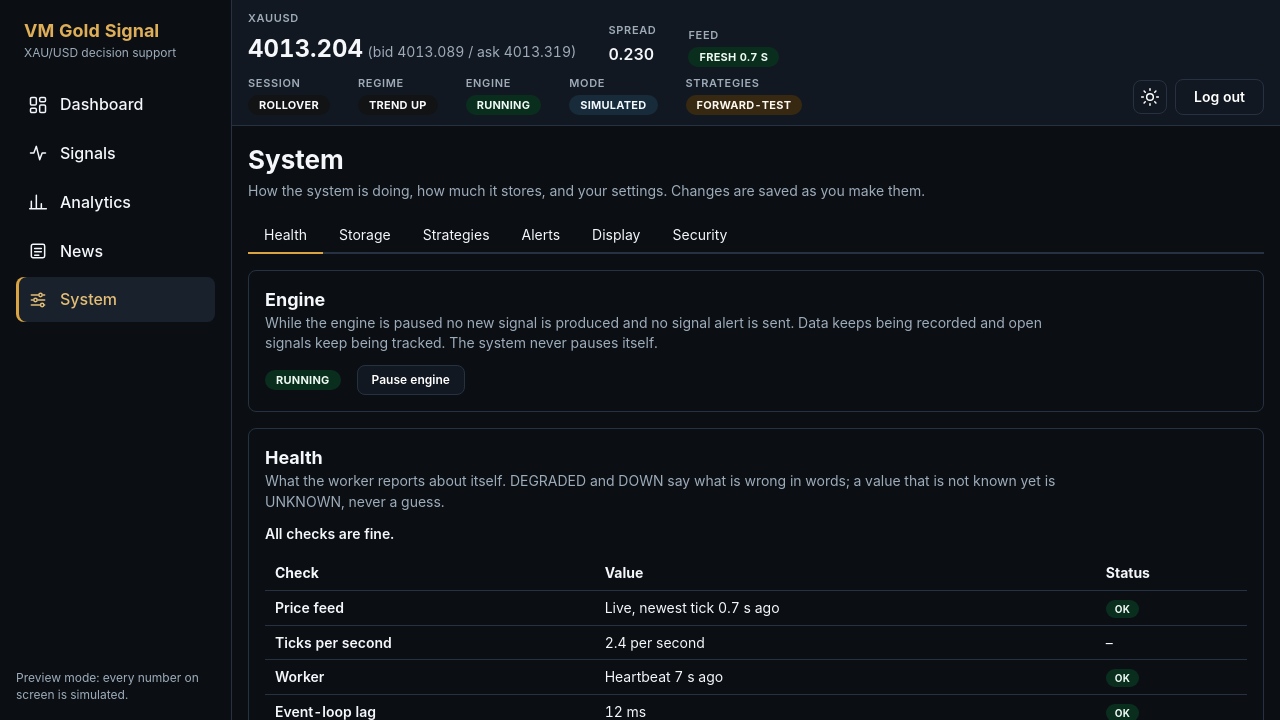
Test case: the health tab › the engine card › asks first, pauses for the time that was chosen, and resumes
Check: the tab "Health" is shown, box [248,218,323,254]
Check: the element with test id "health-engine-status" reads "RUNNING", box [276,373,330,387]
Click the button with test id "health-pause" at x=411, y=380, box [356,365,465,395]
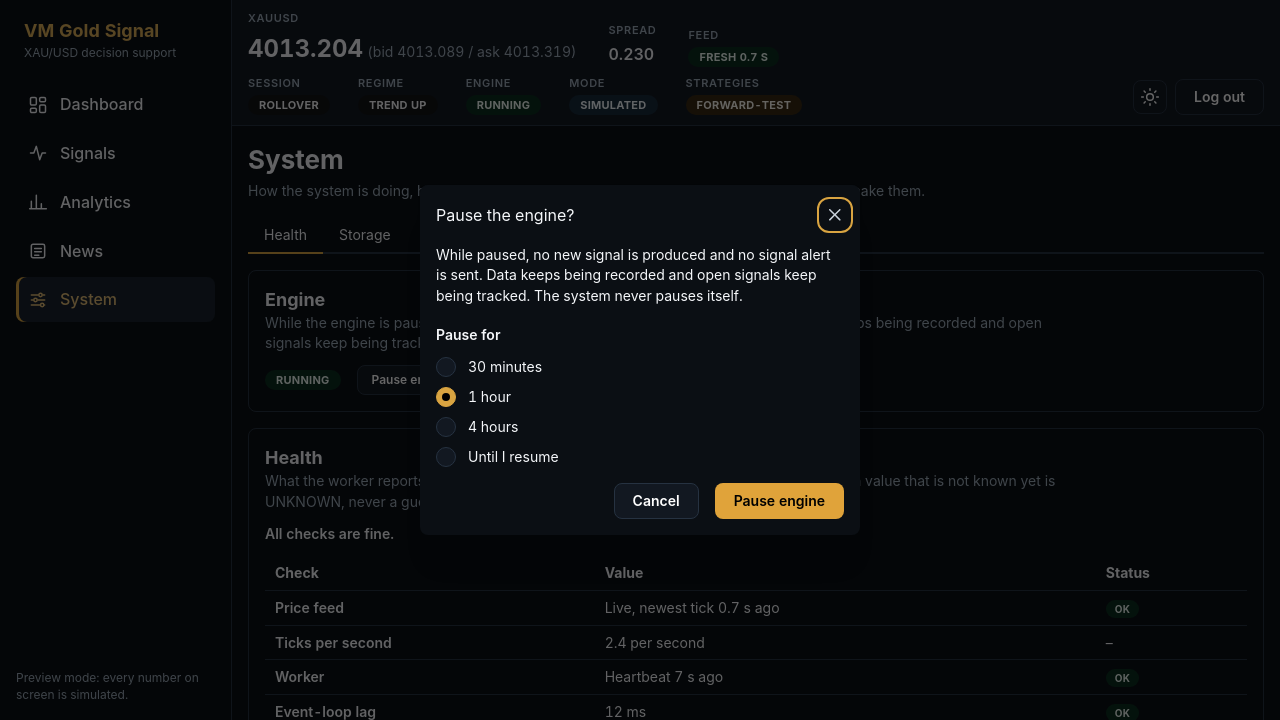
Click the radio button labelled "4 hours" at x=446, y=427, box [436,417,456,437]
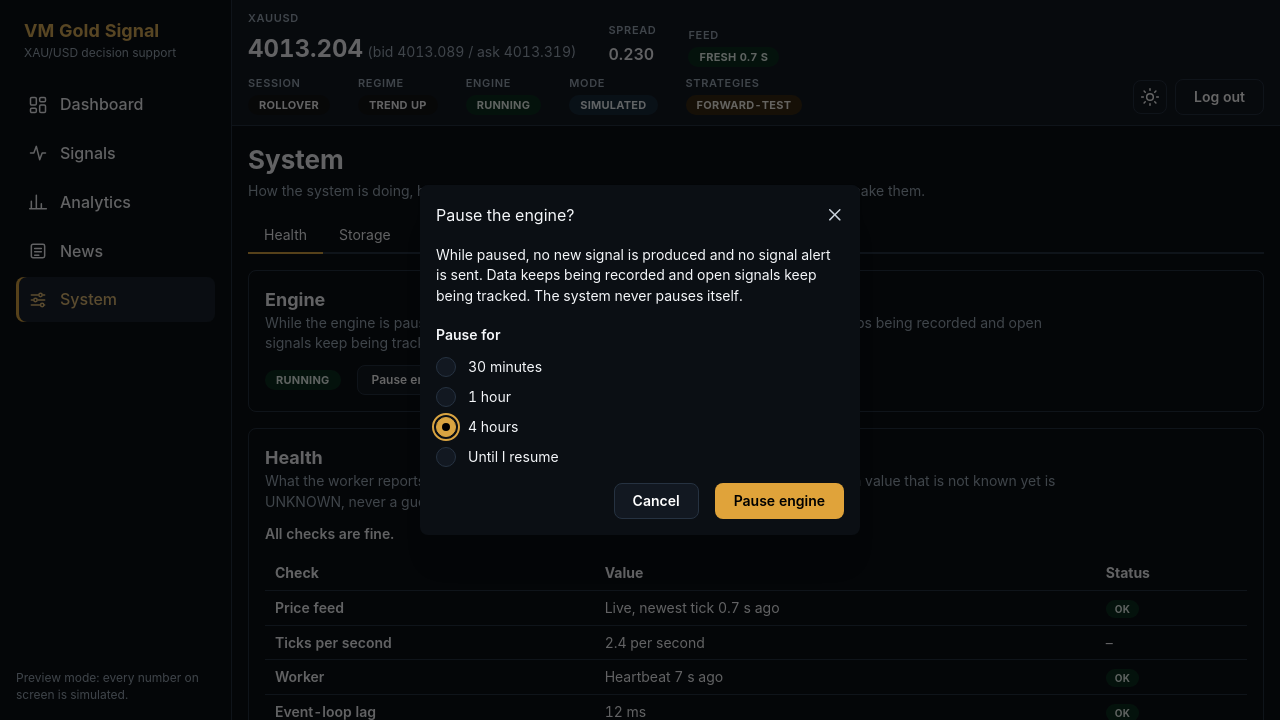
Click the button with test id "pause-confirm" at x=779, y=501, box [715,483,844,519]
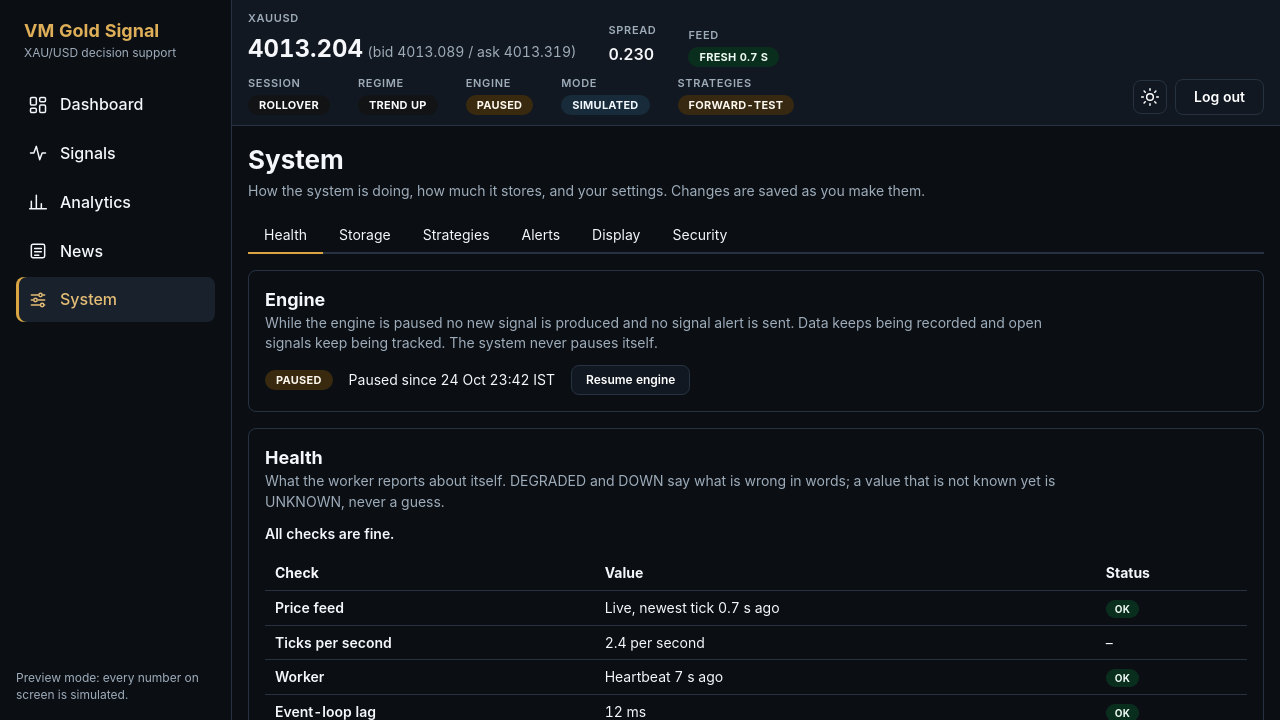
Check: the element with test id "health-engine-status" reads "PAUSED", box [276,373,322,387]
Check: the element with test id "pause-dialog" is gone
Check: the element with test id "health-engine" shows "Paused since", box [349,371,440,388]
Click the button with test id "health-resume" at x=631, y=380, box [571,365,690,395]
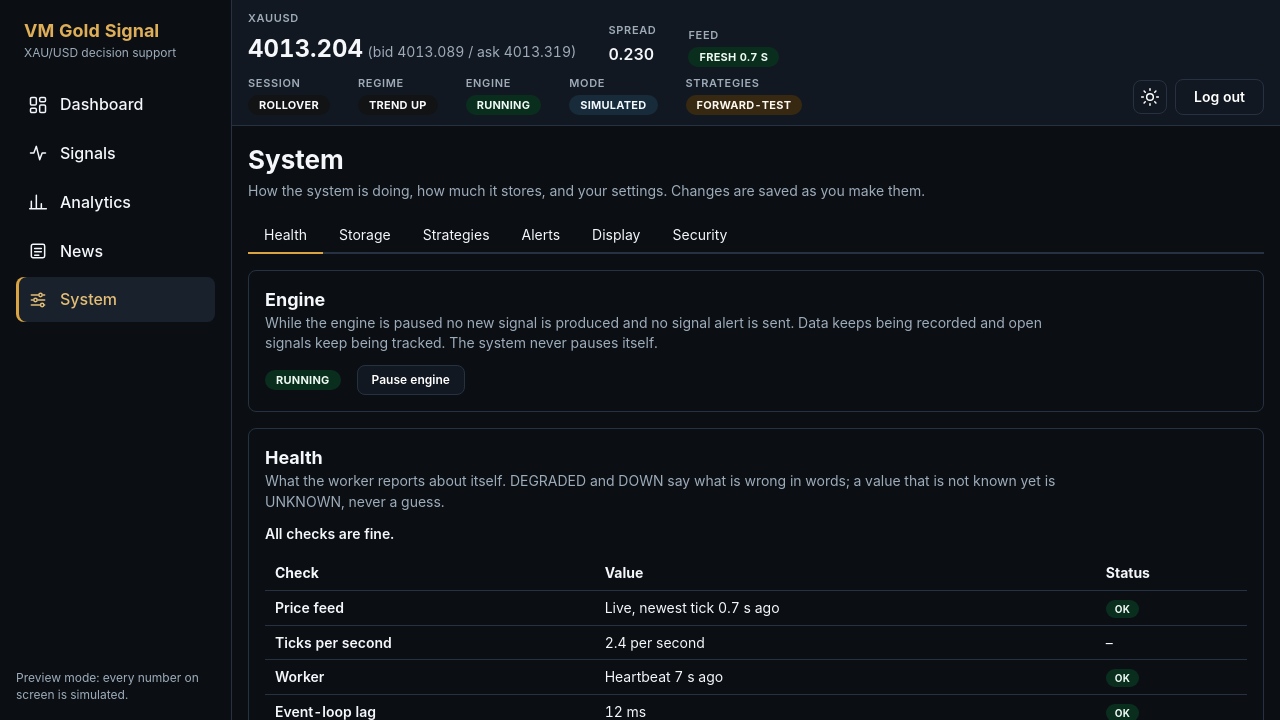
Check: the element with test id "health-engine-status" reads "RUNNING", box [276,373,330,387]
Check: the button with test id "health-pause" is shown, box [356,365,465,395]
